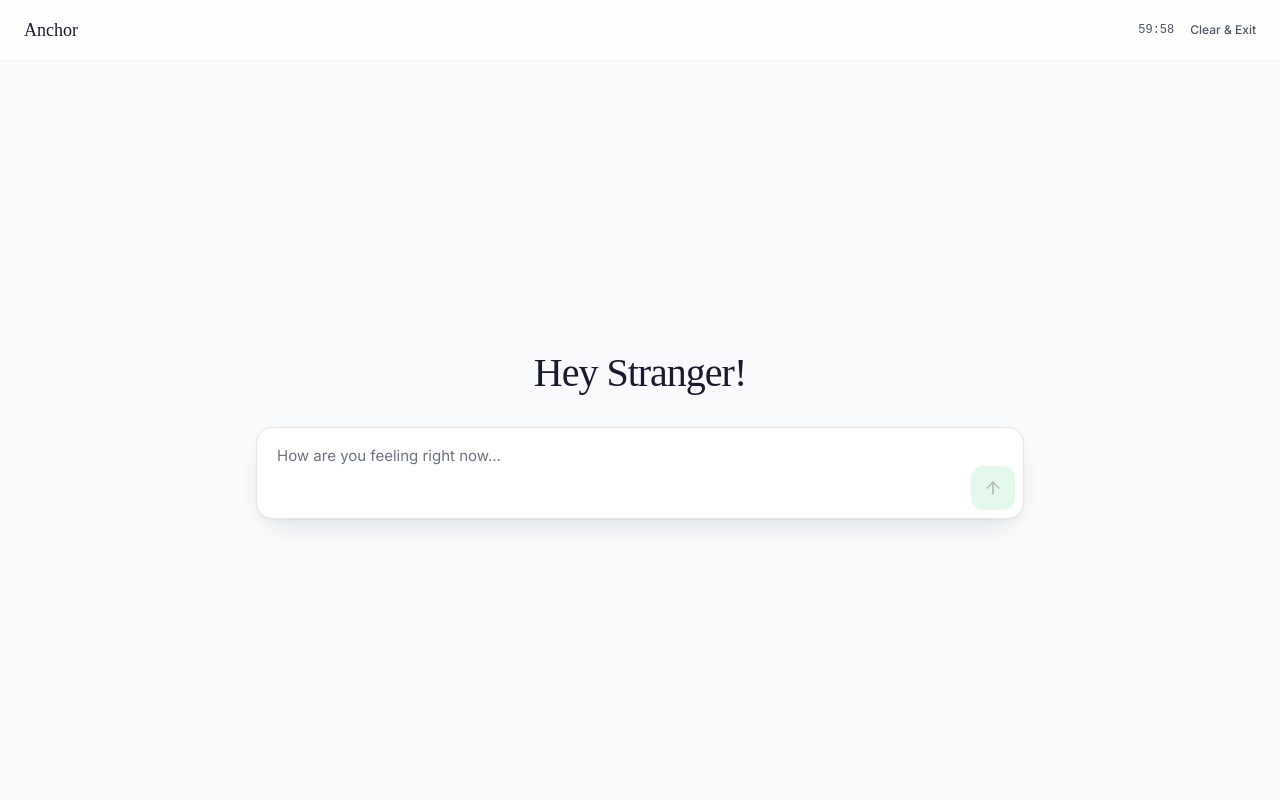
Chat – Chat Transition › shows disclaimer text after assistant responds
Type "Feeling stressed" into the text box with placeholder "How are you feeling right now..." at point(614, 472), box [265,436,963,510]
Then press Enter
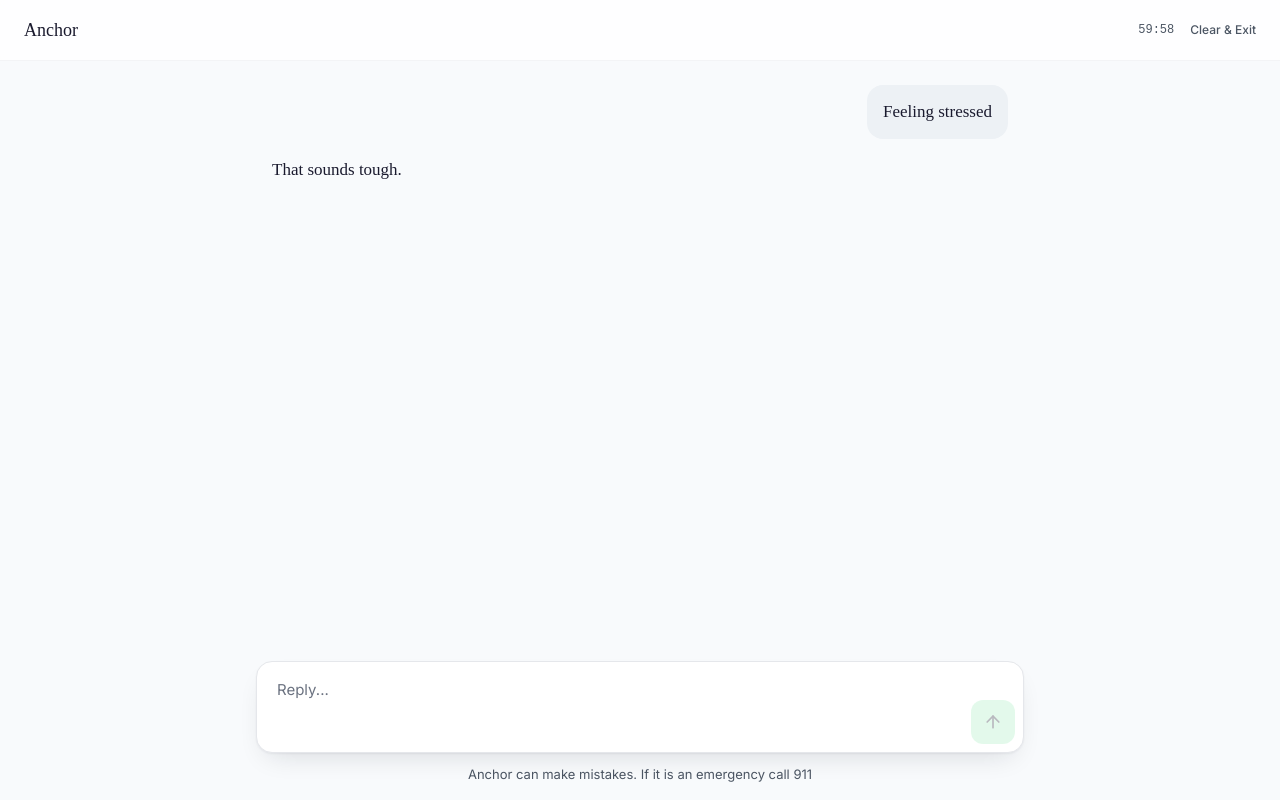
Check: the text "Anchor can make mistakes. If it is an emergency call 911" is shown, box [468,766,812,782]
